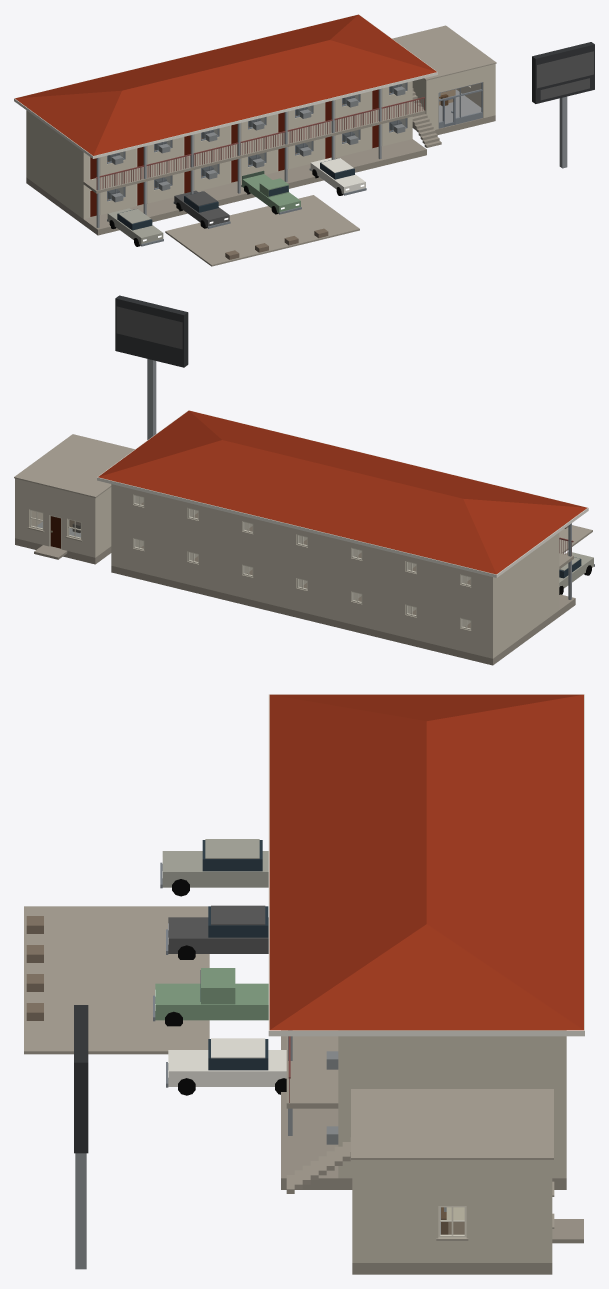
Rendered from motel.glb.
3 views of the same model, one above another, from view 1: azimuth 30°, elevation 25°; view 2: azimuth 150°, elevation 25°; view 3: azimuth 270°, elevation 25° (orthographic). The views are drawn at different scales.
Parts seen in each view (by area): view 1: LOD0, FURN; view 2: LOD0; view 3: LOD0.
Part boxes in pixels (x1,y1,x2,y2): LOD0: [14, 14, 594, 266]; FURN: [107, 84, 455, 199]; LOD0: [14, 295, 594, 665]; LOD0: [24, 694, 584, 1274].
Size of what is drawn, in the model's own units: 36.64 by 9.3 by 19.64.
